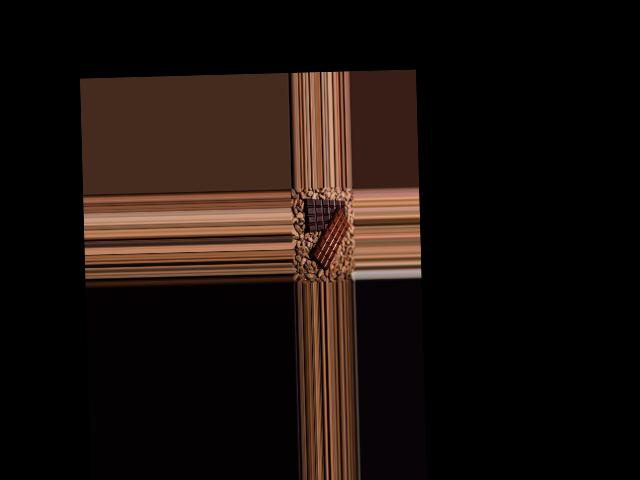chocolate: (301, 193, 348, 232)
